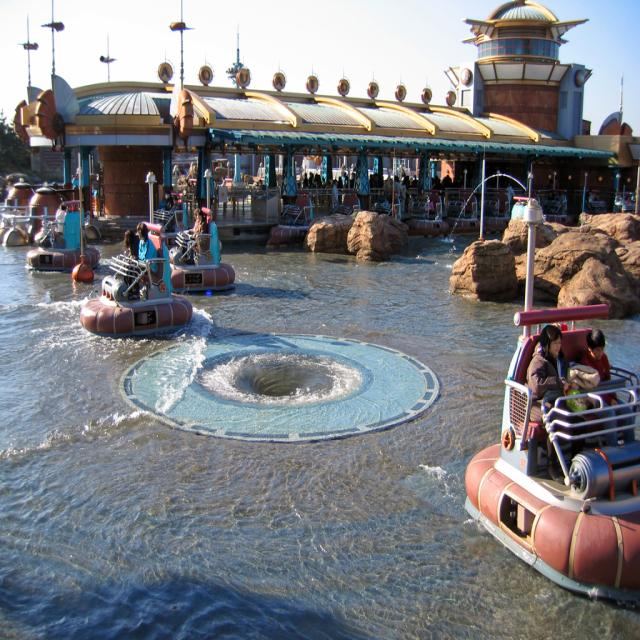Boat: (466, 161, 640, 605), (78, 171, 190, 339), (168, 165, 235, 294), (24, 165, 102, 272)
